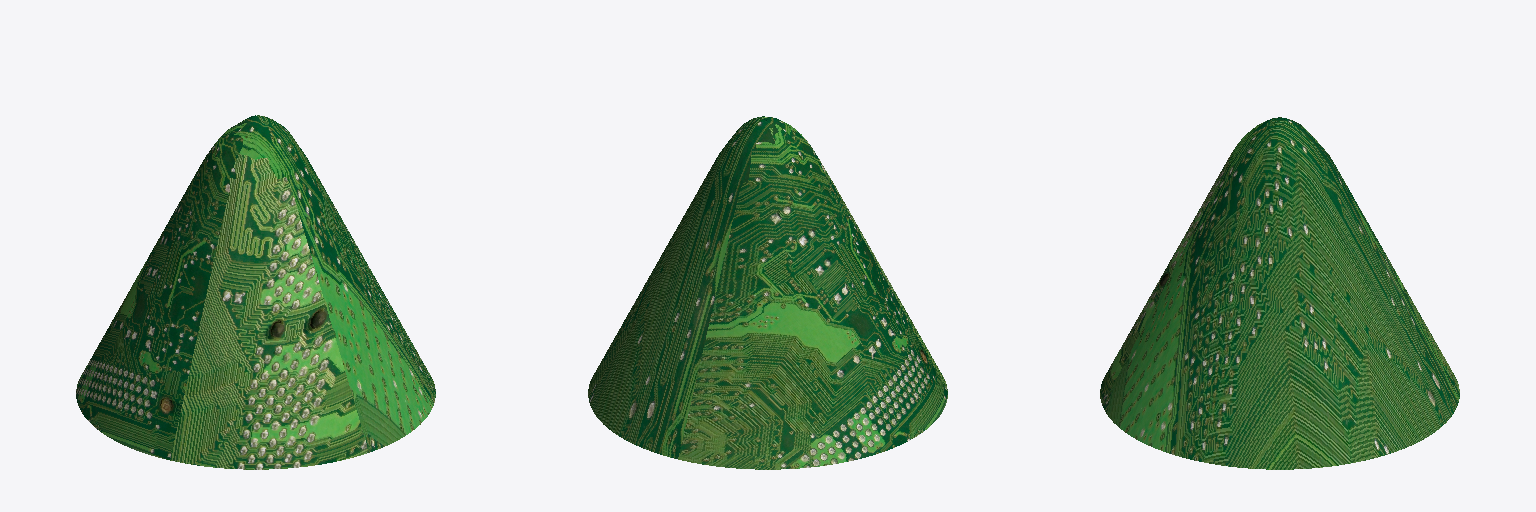
3 views of the same model, side by side, from view 1: azimuth 30°, elevation 25°; view 2: azimuth 150°, elevation 25°; view 3: azimuth 270°, elevation 25° (orthographic).
Visible parts, largest first — view 1: Cone_Cone.001; view 2: Cone_Cone.001; view 3: Cone_Cone.001.
Boxes of the visible parts, x1,y1,x2,y2 form: Cone_Cone.001: [76, 115, 435, 469]; Cone_Cone.001: [588, 116, 947, 469]; Cone_Cone.001: [1100, 117, 1459, 469].
Bounding box in the file's own units: 5 × 4.22 × 5.
Materials: 1 (1 with a texture image).